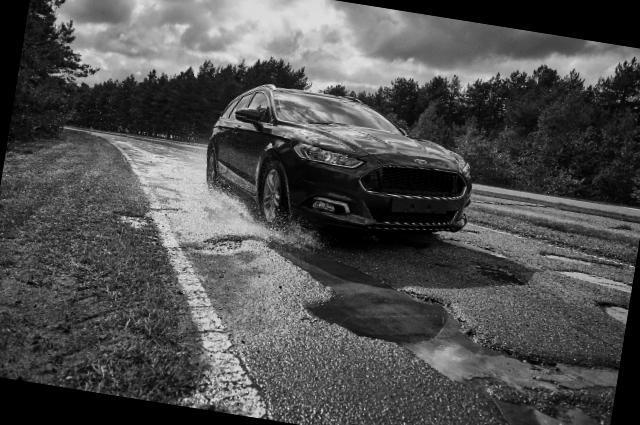Pothole: (137, 214, 632, 421), (546, 234, 638, 290), (416, 252, 538, 294), (575, 284, 631, 327)
